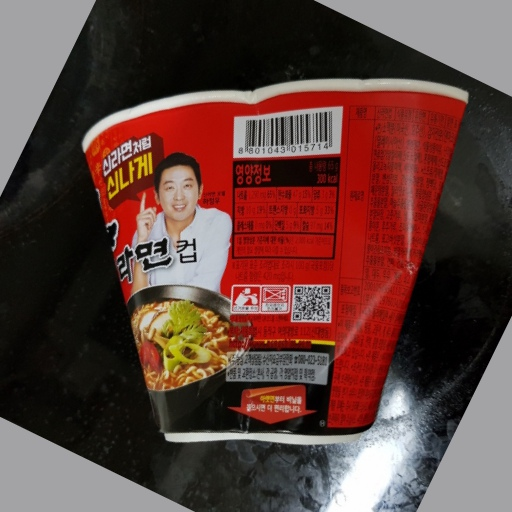Paper_1: (77, 75, 468, 442)
